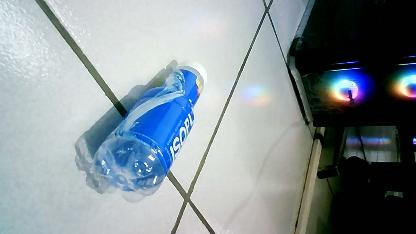Plastic Bottle: (90, 40, 214, 200)
